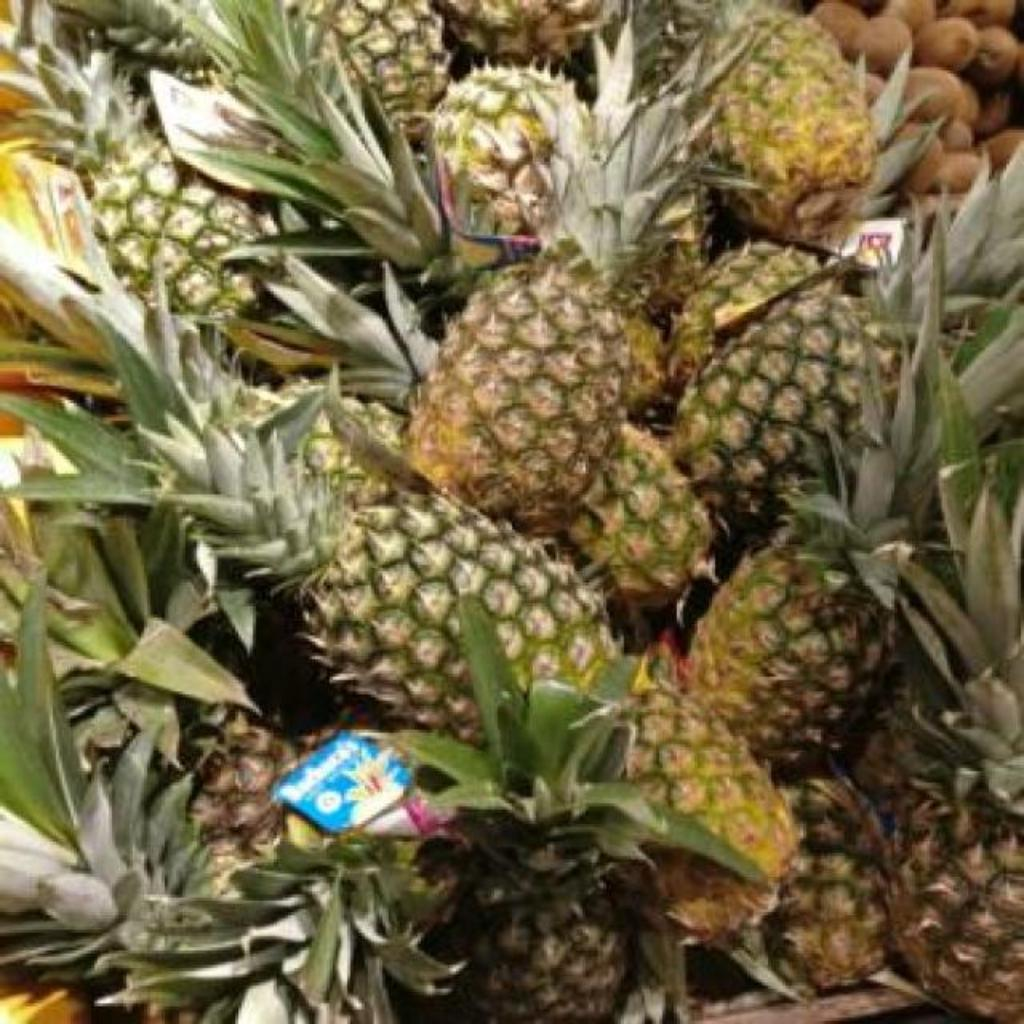pineapple: (14, 318, 620, 733), (692, 306, 1024, 765), (404, 602, 764, 1024), (410, 32, 696, 533), (674, 146, 1024, 529), (890, 472, 1024, 1024), (712, 6, 878, 243), (628, 660, 798, 883), (766, 778, 888, 991), (570, 424, 712, 605), (430, 66, 576, 235), (680, 242, 844, 345), (332, 0, 450, 135), (850, 50, 942, 221), (663, 858, 776, 939), (848, 220, 901, 267)
